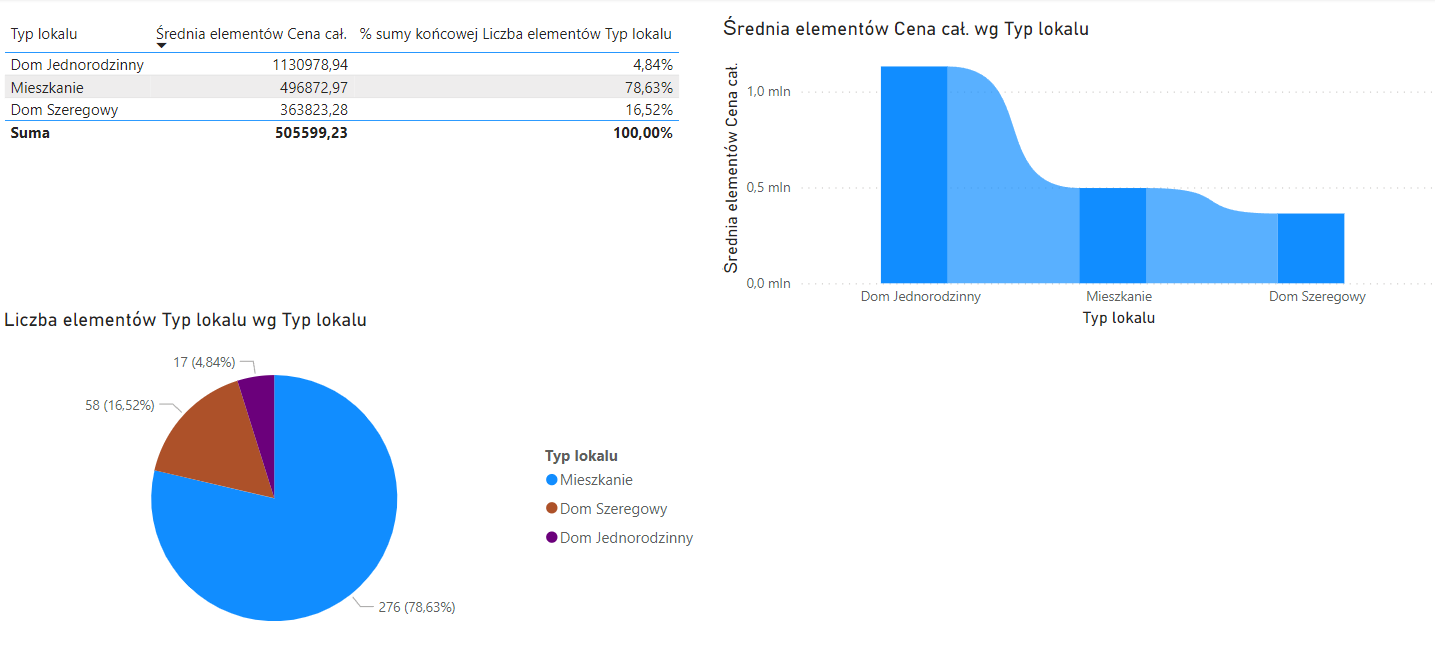

Layout of this report page (visuals, bound fields, positions):
{"tool":"powerbi","page":{"name":"Raport 1","canvas":[1280,720],"ordinal":1},"visuals":[{"type":"ribbonChart","fields":{"Category":["Lokale.Typ lokalu"],"Y":["Avg(Lokale.Cena cał.)"]},"box":[637.3,16.4,642.7,280],"z":0},{"type":"tableEx","fields":{"Values":["Lokale.Typ lokalu","Lokale.Cena cał.","CountNonNull(Lokale.Typ lokalu)"]},"box":[0,16.4,630.9,121.8],"z":1000},{"type":"pieChart","fields":{"Category":["Lokale.Typ lokalu"],"Y":["CountNonNull(Lokale.Typ lokalu)"]},"box":[0,274.5,630.9,318.2],"z":2000}]}

Visuals, with their boxes on the page's 1280x720 design canvas (x1, y1, x2, y2). These are canvas units, not pixel positions in the 1435x672 screenshot, which may show the page scaled, cropped or inside an application window:
ribbonChart - Lokale.Typ lokalu x Avg(Lokale.Cena cał.): left=637, top=16, right=1280, bottom=296
tableEx - Lokale.Typ lokalu x Lokale.Cena cał.: left=0, top=16, right=631, bottom=138
pieChart - Lokale.Typ lokalu x CountNonNull(Lokale.Typ lokalu): left=0, top=274, right=631, bottom=593
